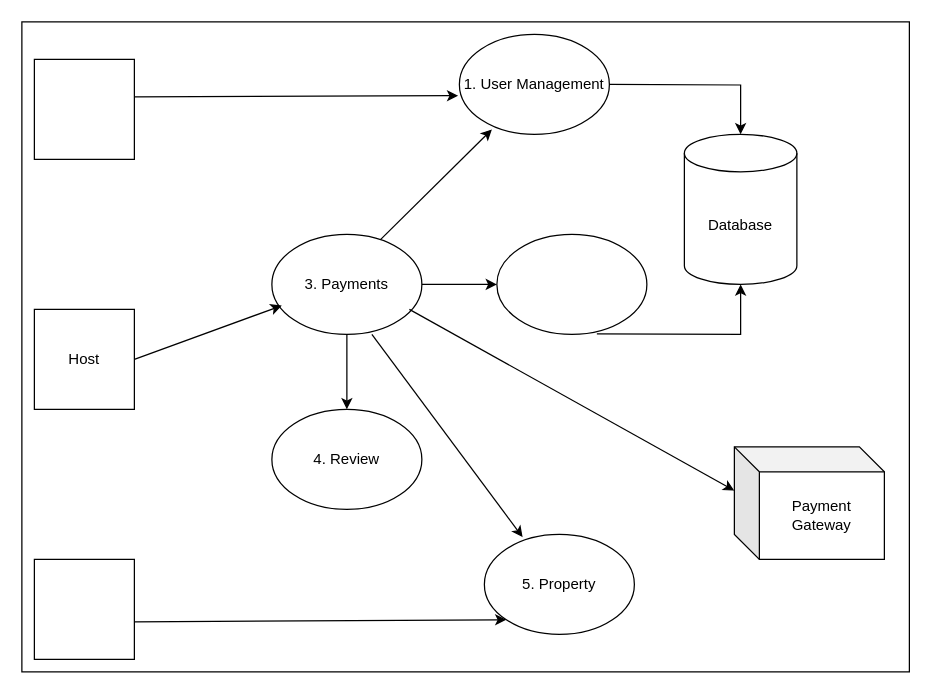
Image size: 931x694. Some labels were removed from this diagram. The shapes that lost their labels are listed below. From the top down, each one's box as (x1, y1, x2, y2) in pixels, then its label:
(33, 58, 134, 159): Guest
(496, 233, 647, 334): 2. Search and Bookings
(33, 558, 134, 659): Admin
